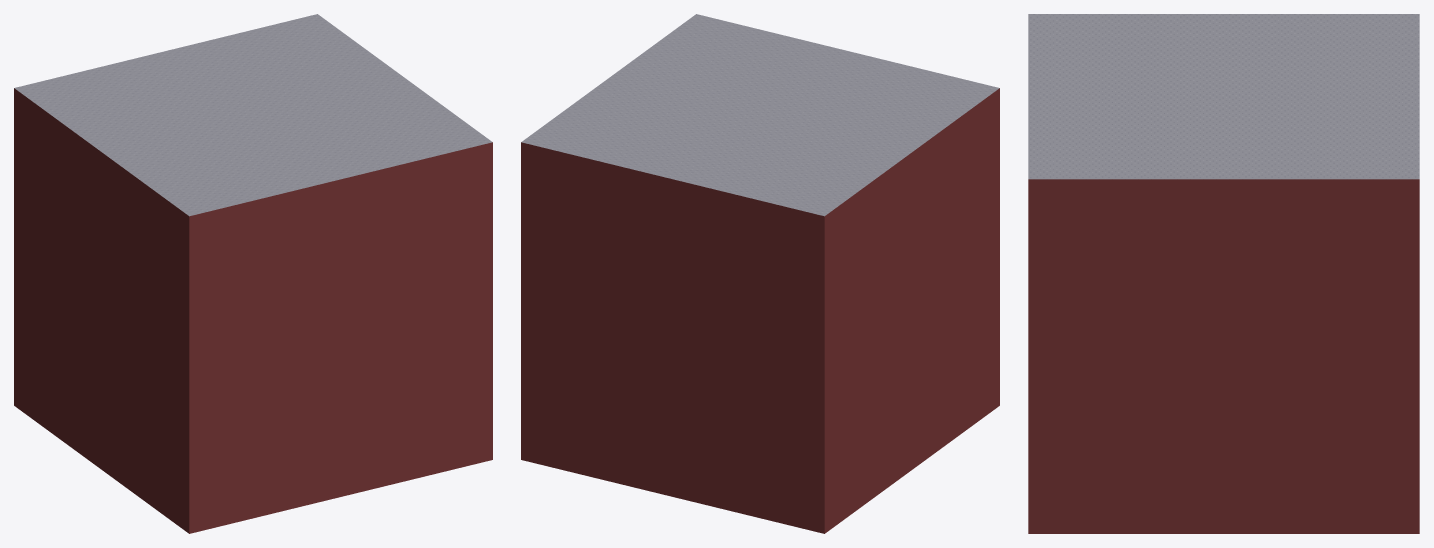
Rendered from Building_Roof.fbx.
3 views of the same model, side by side, from view 1: azimuth 30°, elevation 25°; view 2: azimuth 150°, elevation 25°; view 3: azimuth 270°, elevation 25° (orthographic). The views are drawn at different scales.
Parts seen in each view (by area): view 1: Building_Apartment001; view 2: Building_Apartment001; view 3: Building_Apartment001.
Boxes of the visible parts, x1,y1,x2,y2 form: Building_Apartment001: [14, 14, 492, 533]; Building_Apartment001: [521, 14, 999, 533]; Building_Apartment001: [1028, 14, 1419, 533].
Size of the model in its own units: 3000 by 3000 by 3000.
